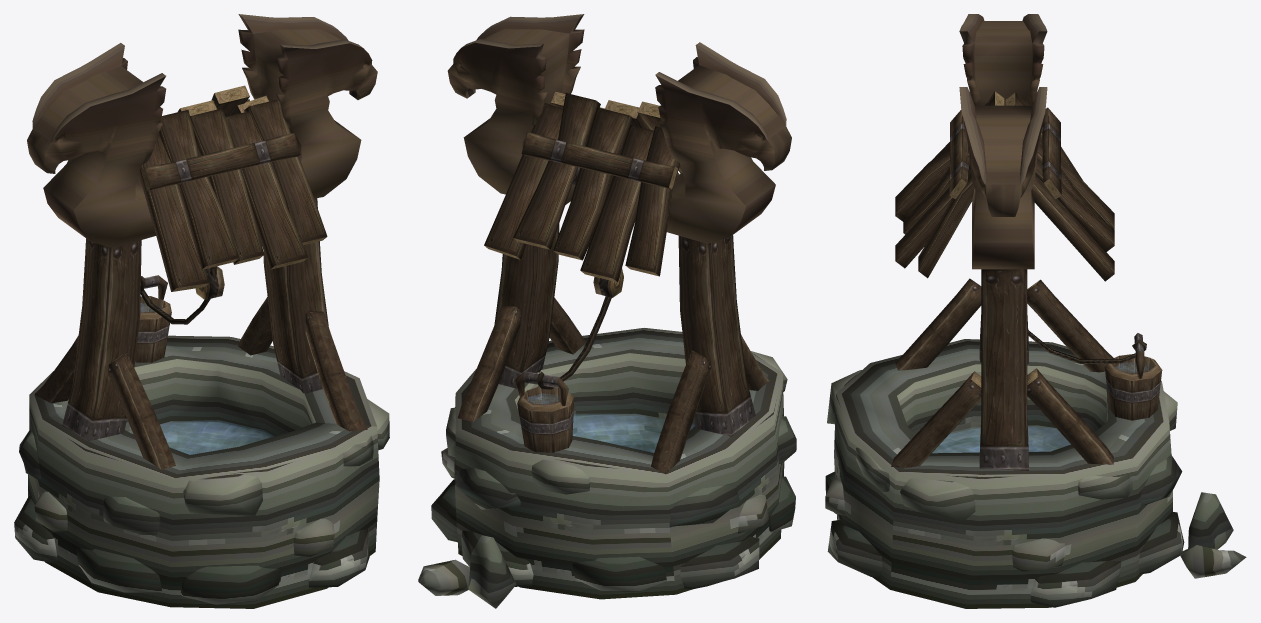
The picture shows the model from 3 angles, left to right: view 1: azimuth 30°, elevation 25°; view 2: azimuth 150°, elevation 25°; view 3: azimuth 270°, elevation 25°; orthographic projection. The views are drawn at different scales.
Bounding box in the file's own units: 2.81 × 4.07 × 3.18.
Materials: 7 (7 with a texture image).
